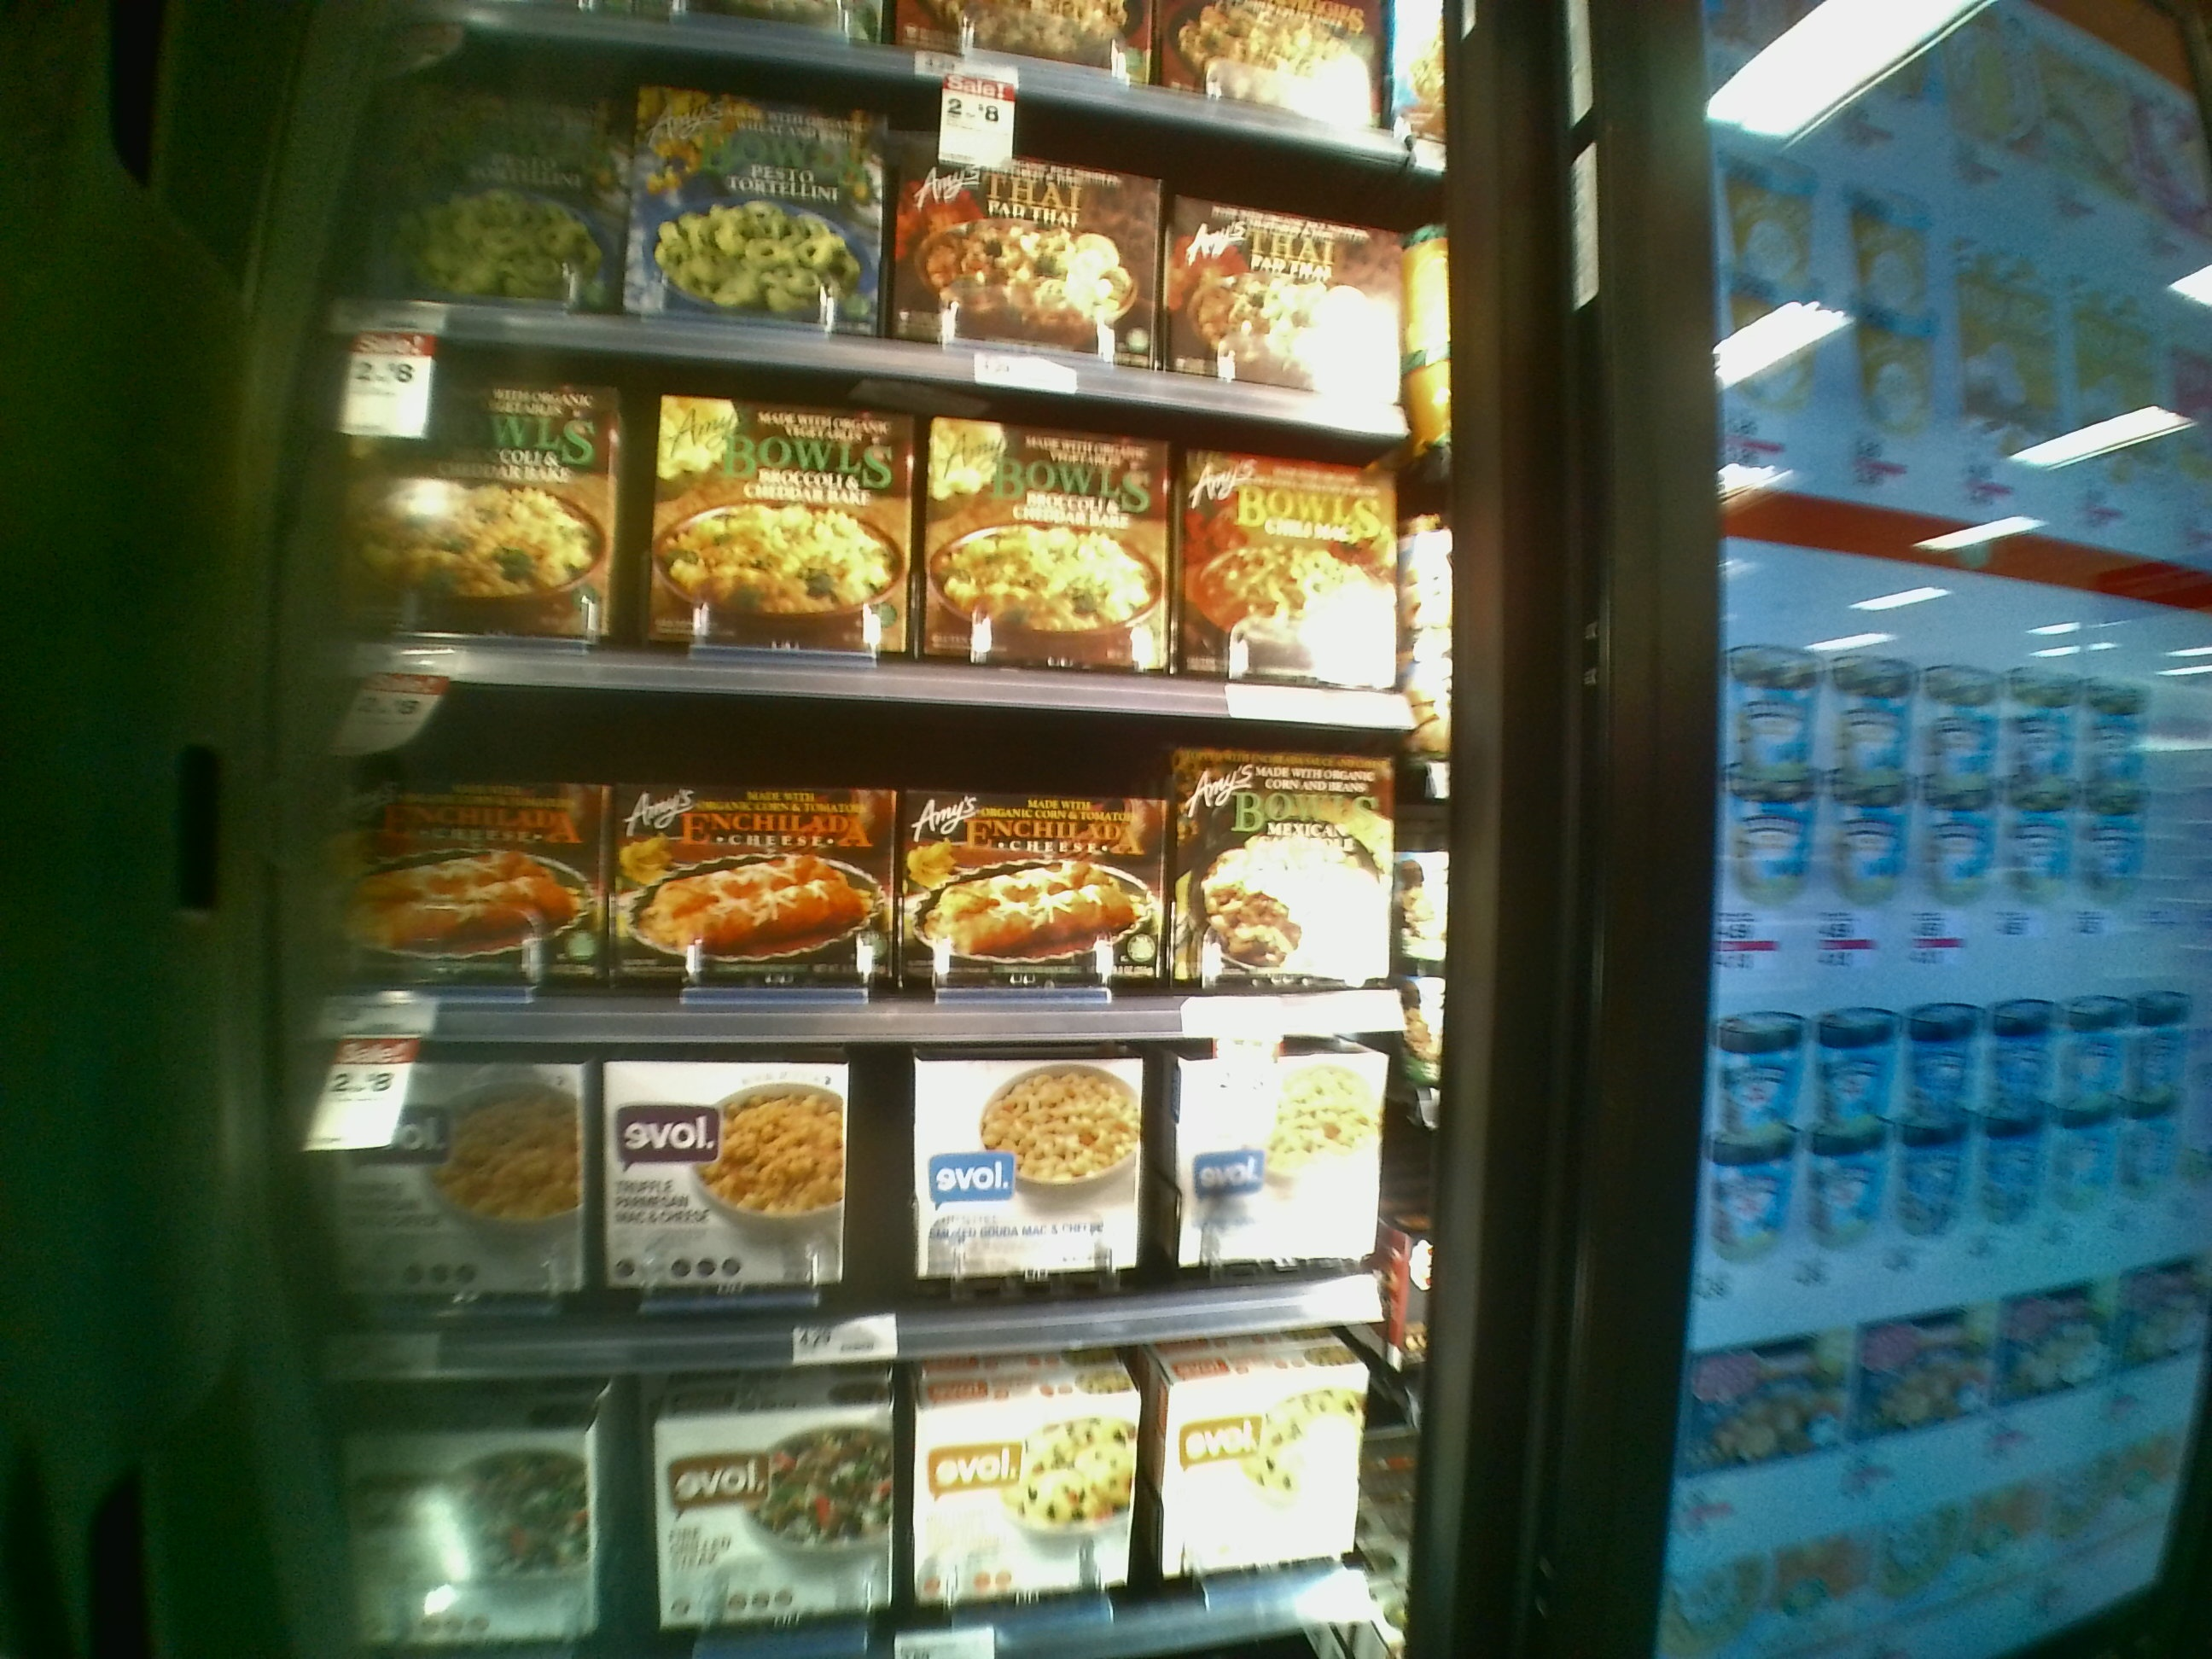shelf: (333, 683, 1432, 1030), (343, 378, 1458, 716), (329, 1026, 1404, 1375), (345, 78, 1458, 380), (343, 1364, 1395, 1659)
